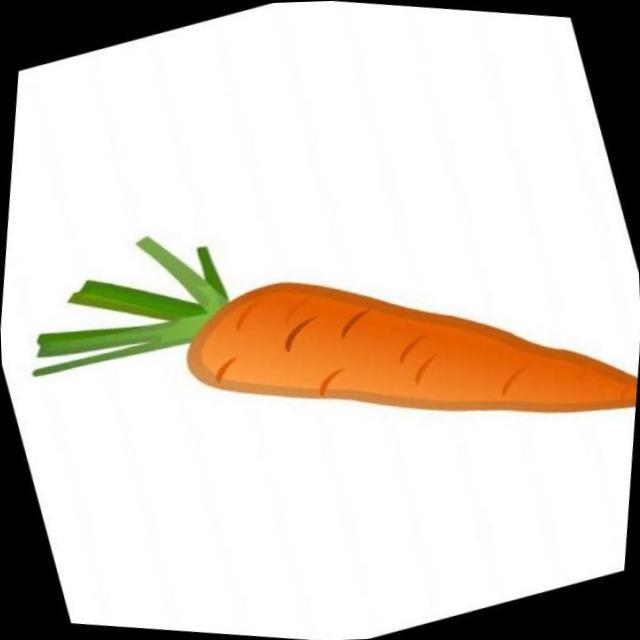carrot: (115, 128, 640, 575)
